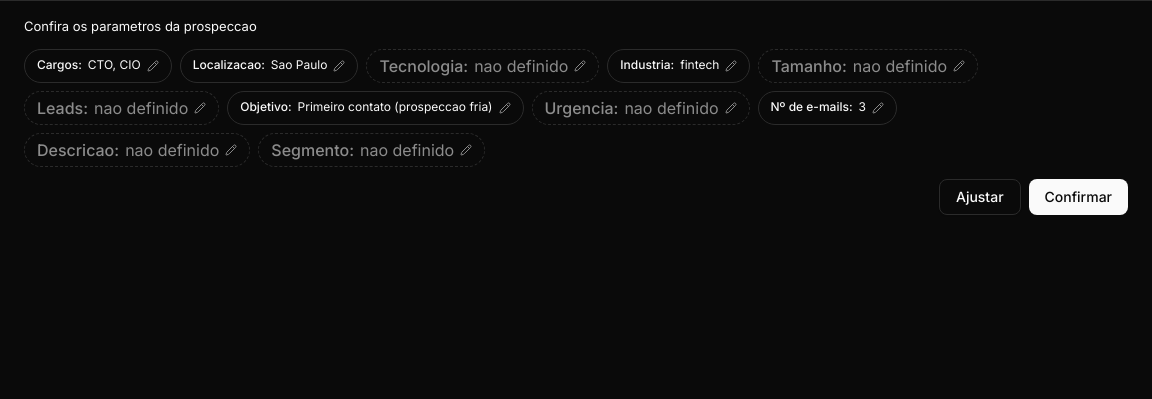
Test: AgentConfirmationCard › variante briefing › erro devolvido aparece inline e o editor continua aberto
Click the button with test id "briefing-chip-location".
click(269, 66)  # box top-left (180, 48), bottom-right (358, 82)
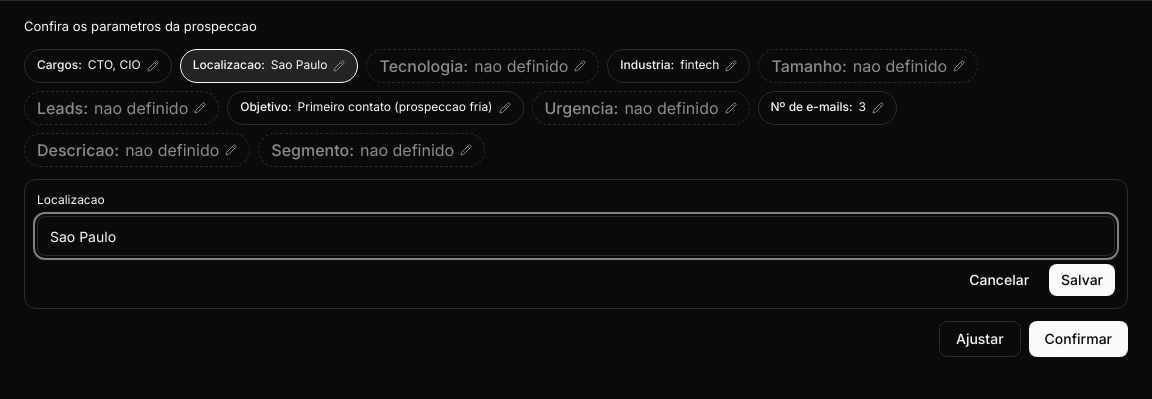
Clear the field with test id "chip-input-location" at (576, 236), box top-left (37, 216), bottom-right (1115, 256)
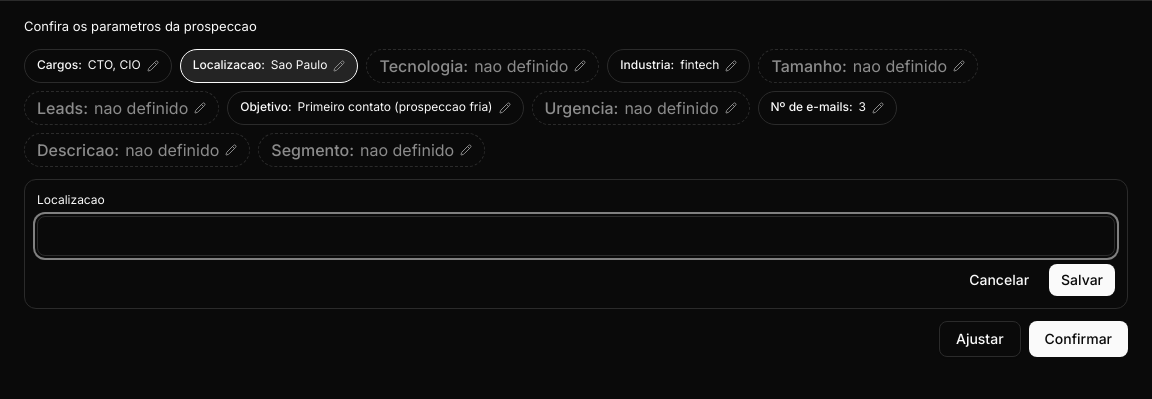
Click the button with test id "chip-save-location".
click(1082, 280)  # box top-left (1049, 264), bottom-right (1115, 296)
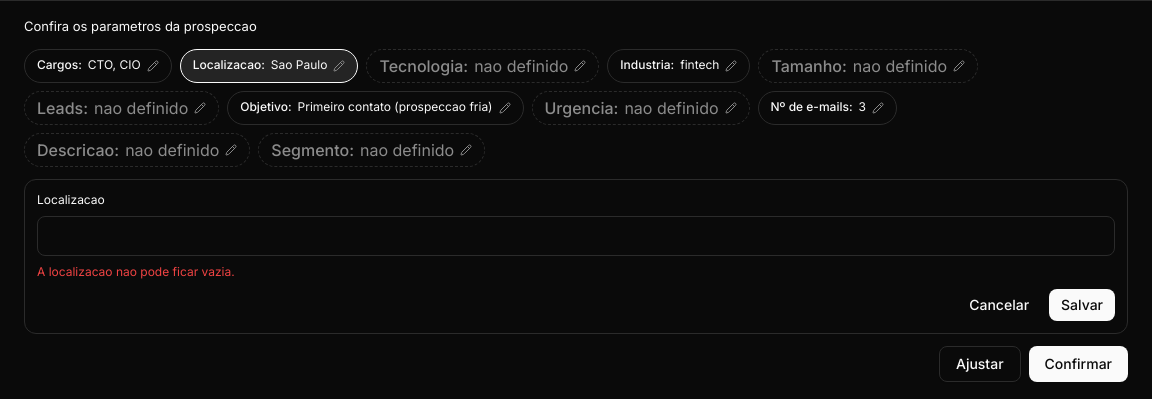
Expected: the element with test id "chip-editor-location" is shown, top-left (24, 178), bottom-right (1128, 334)
Expected: the message with test id "chip-error-location" shows "nao pode ficar vazia", top-left (37, 264), bottom-right (235, 279)
